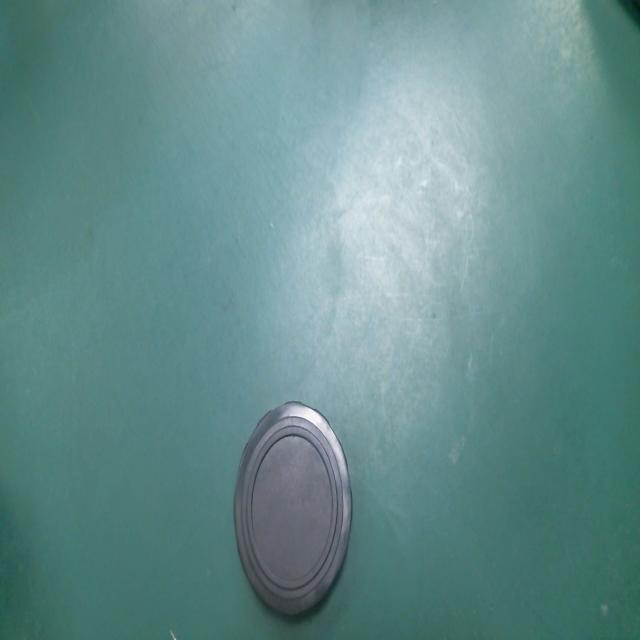cover: (224, 389, 365, 633)
